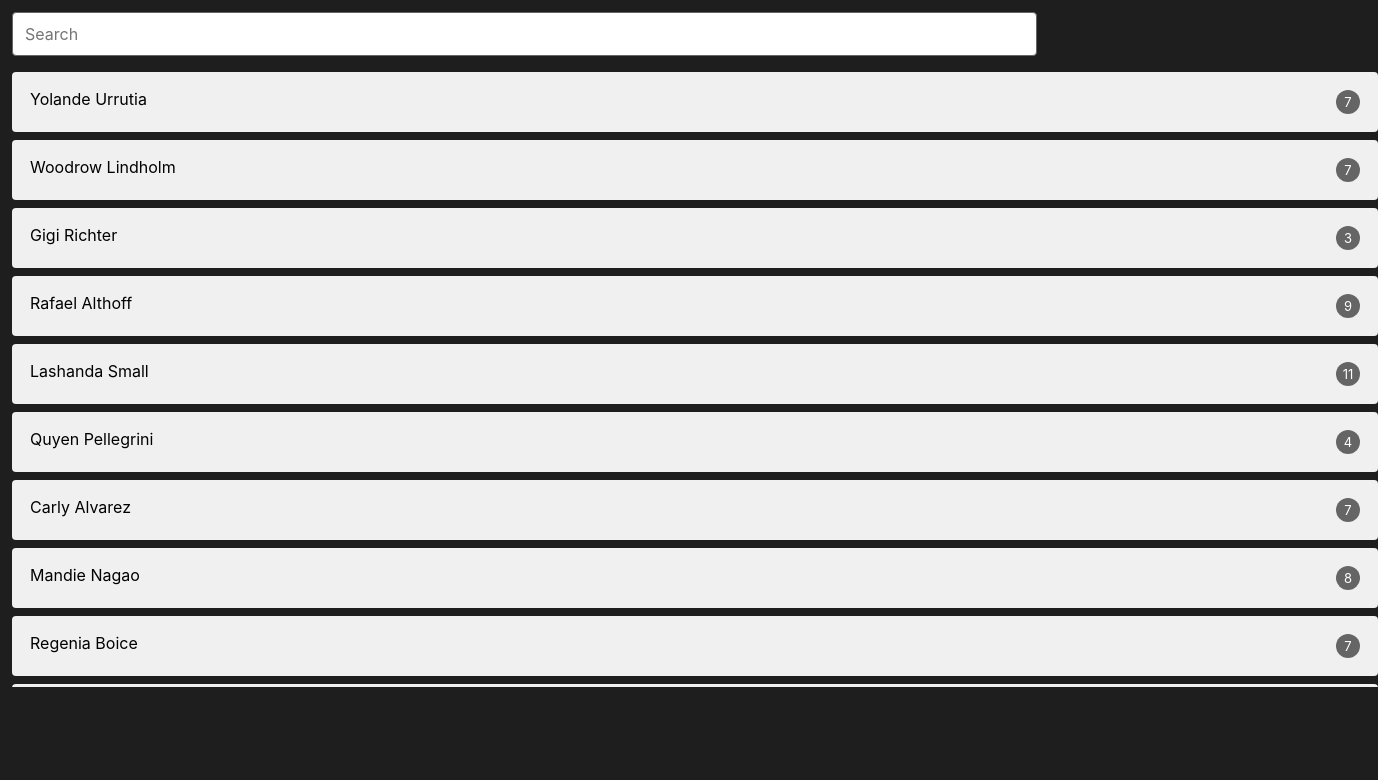
Test: UserColumn › should filter out users based on search
Type "Quyen" into the field with test id "user-search-text" at {"x": 524, "y": 34}, box [12,12,1036,56]
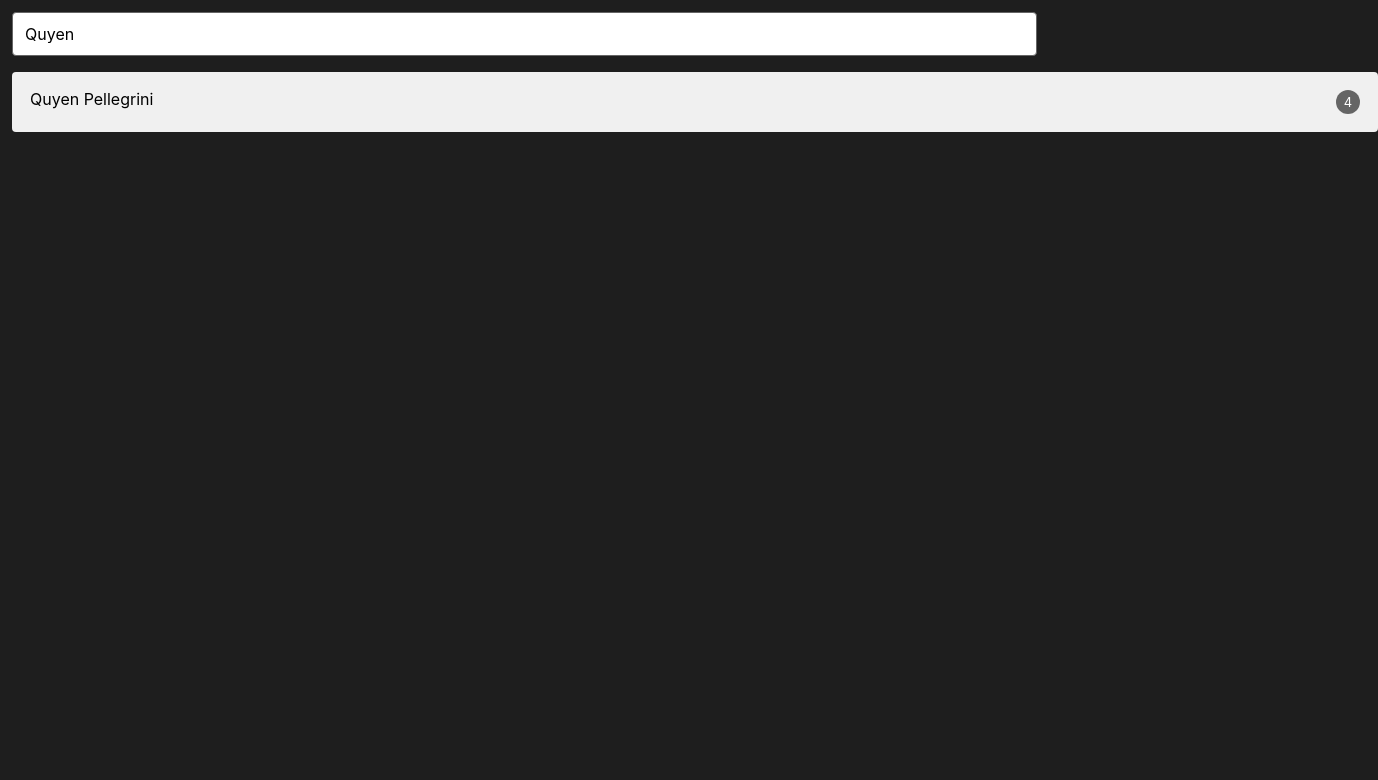
Check: the text "Quyen Pellegrini" is shown, box [30,90,153,114]
Check: the number of links with test id "user-item" is 1, box [12,72,1377,132]
